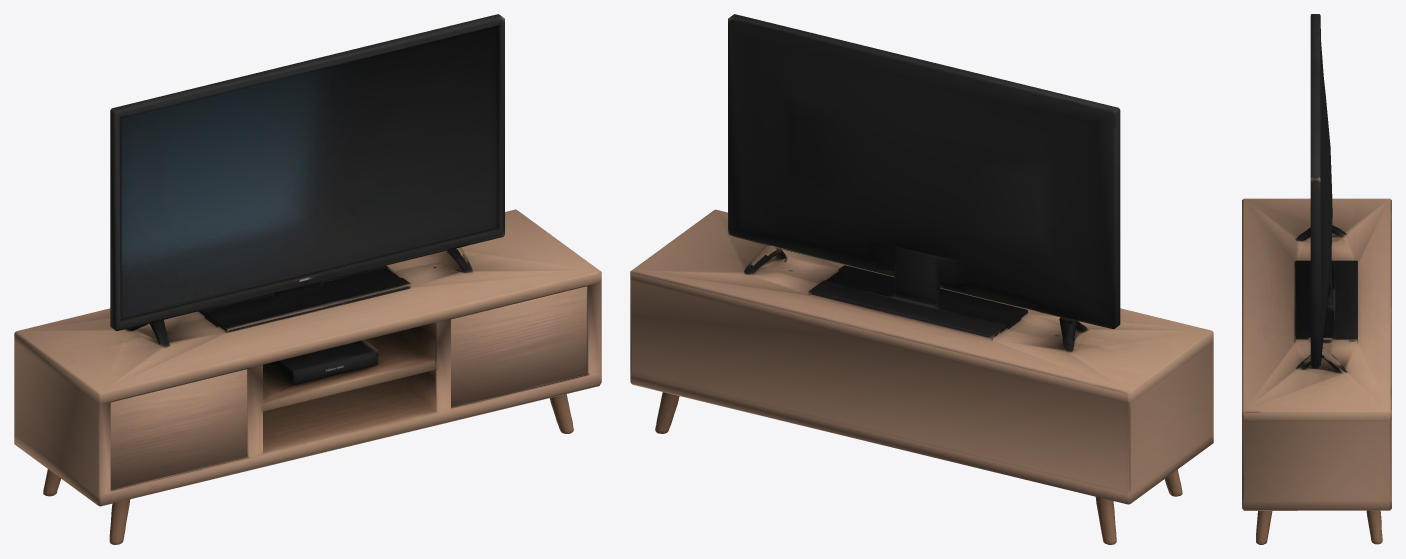
Rendered from Furniture__television_stand_realistic_style_7e1ae602_v2.cluster.glb.
The picture shows the model from 3 angles, left to right: view 1: azimuth 30°, elevation 25°; view 2: azimuth 150°, elevation 25°; view 3: azimuth 270°, elevation 25°; orthographic projection. The views are drawn at different scales.
Visible parts, largest first — view 1: mesh_input; view 2: mesh_input; view 3: mesh_input.
Part boxes in pixels (x1,y1,x2,y2): mesh_input: [14, 14, 601, 544]; mesh_input: [630, 14, 1213, 544]; mesh_input: [1242, 14, 1391, 544].
Size of the model in its own units: 1.9 by 1.45 by 0.5625.
1 material, 1 textured.
